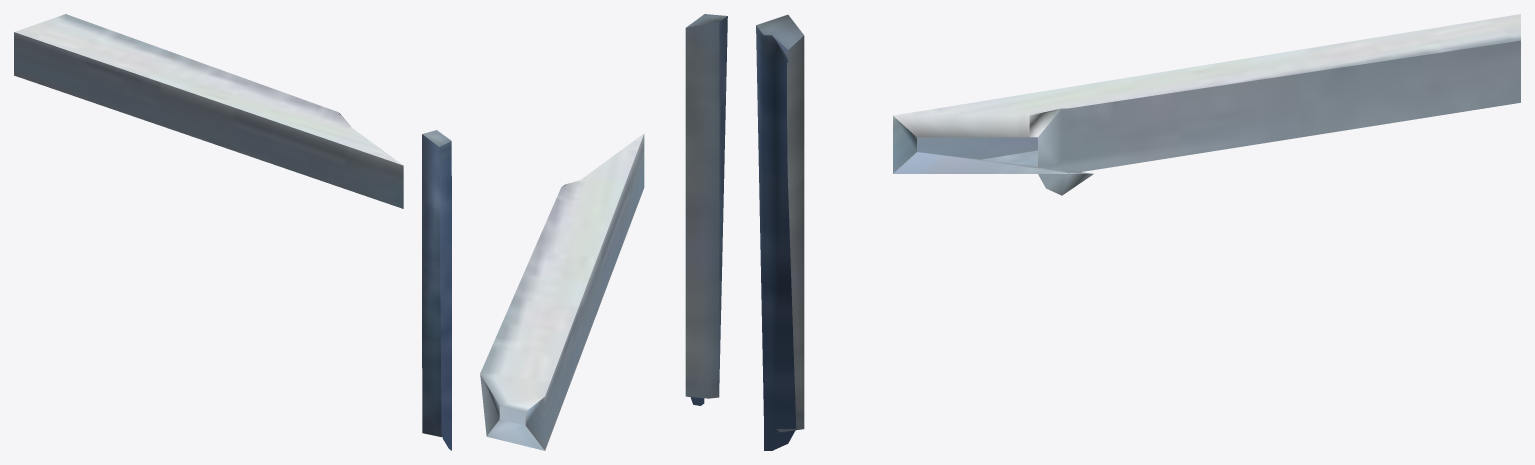
3 renders of one model, left to right at view 1: azimuth 30°, elevation 25°; view 2: azimuth 150°, elevation 25°; view 3: azimuth 270°, elevation 25°, orthographic. The views are drawn at different scales.
Parts seen in each view (by area): view 1: 30436272704370436470_0; view 2: 30436272704370436470_0; view 3: 30436272704370436470_0.
Boxes of the visible parts, <box> form: 30436272704370436470_0: <box>14,14,451,450</box>; 30436272704370436470_0: <box>480,14,727,450</box>; 30436272704370436470_0: <box>756,14,1520,450</box>.
Bounding box in the file's own units: 4.76 × 8.94 × 14.65.
1 material, 1 textured.
